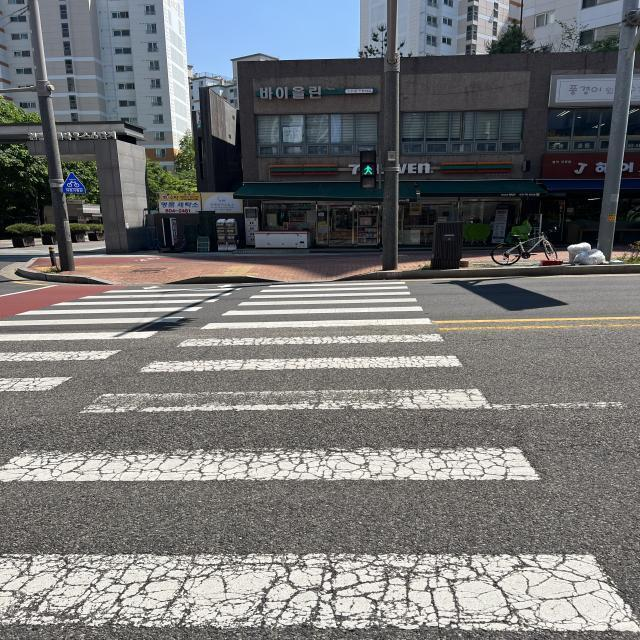crosswalk: (0, 278, 640, 640)
geen-crossing: (356, 148, 383, 192)
